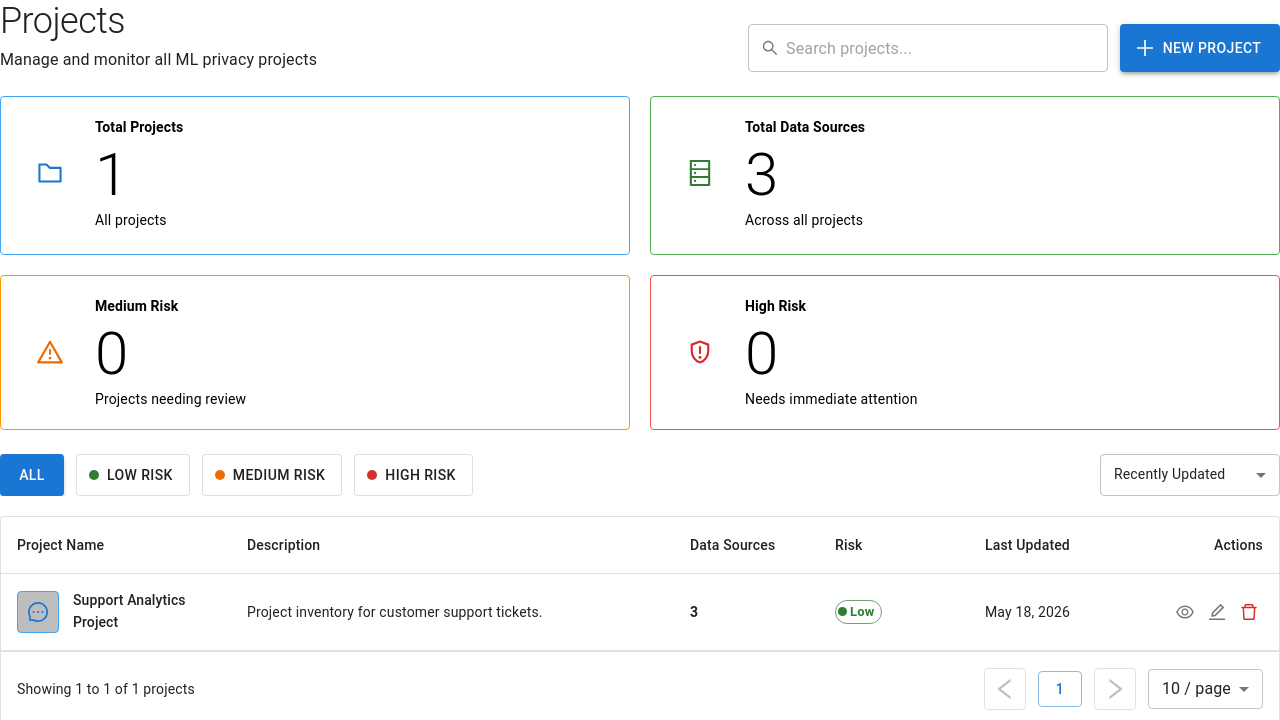
Test: Projects page › updates a project and writes the updated list back to cache
The width and height of the screenshot is (1280, 720).
Expected: the heading "Support Analytics Project" is shown, [73,592,186,630]
Click the button named "Edit Support Analytics Project": (1217,612) [1203,598,1231,626]
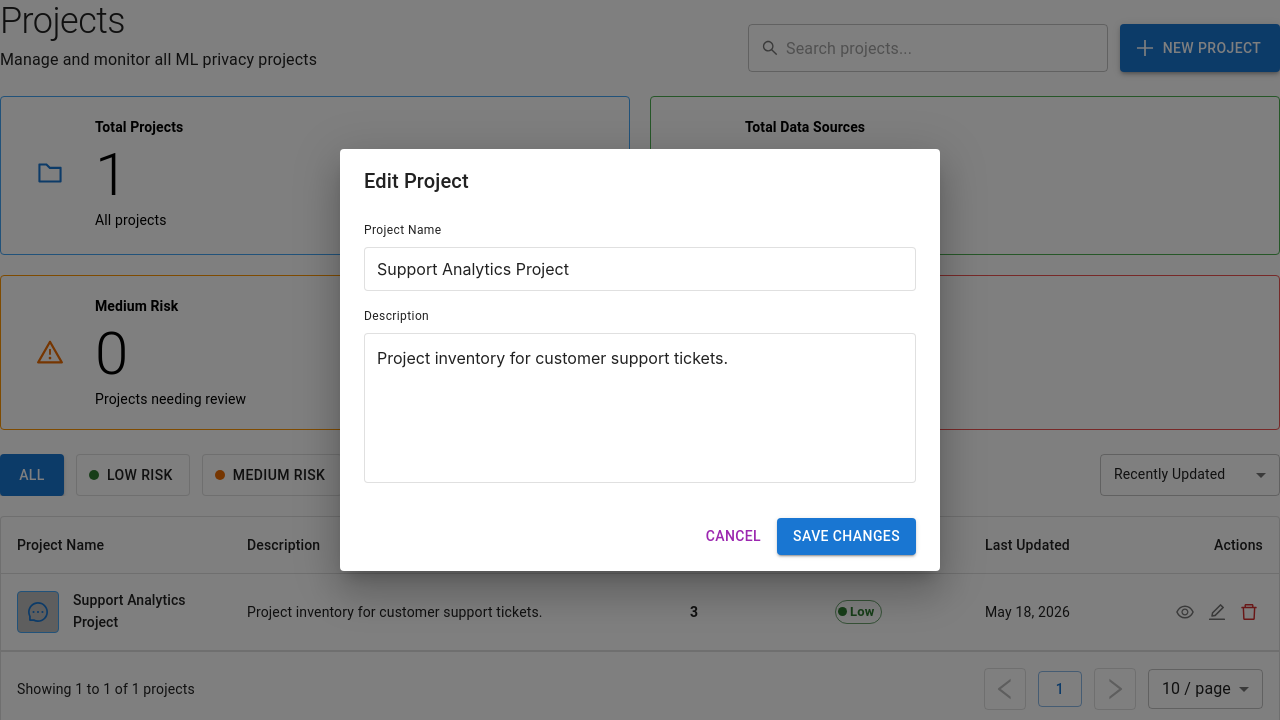
Replace the text in the field showing "Support Analytics Project" with "Updated ML Project": (640,269) [364,247,916,291]
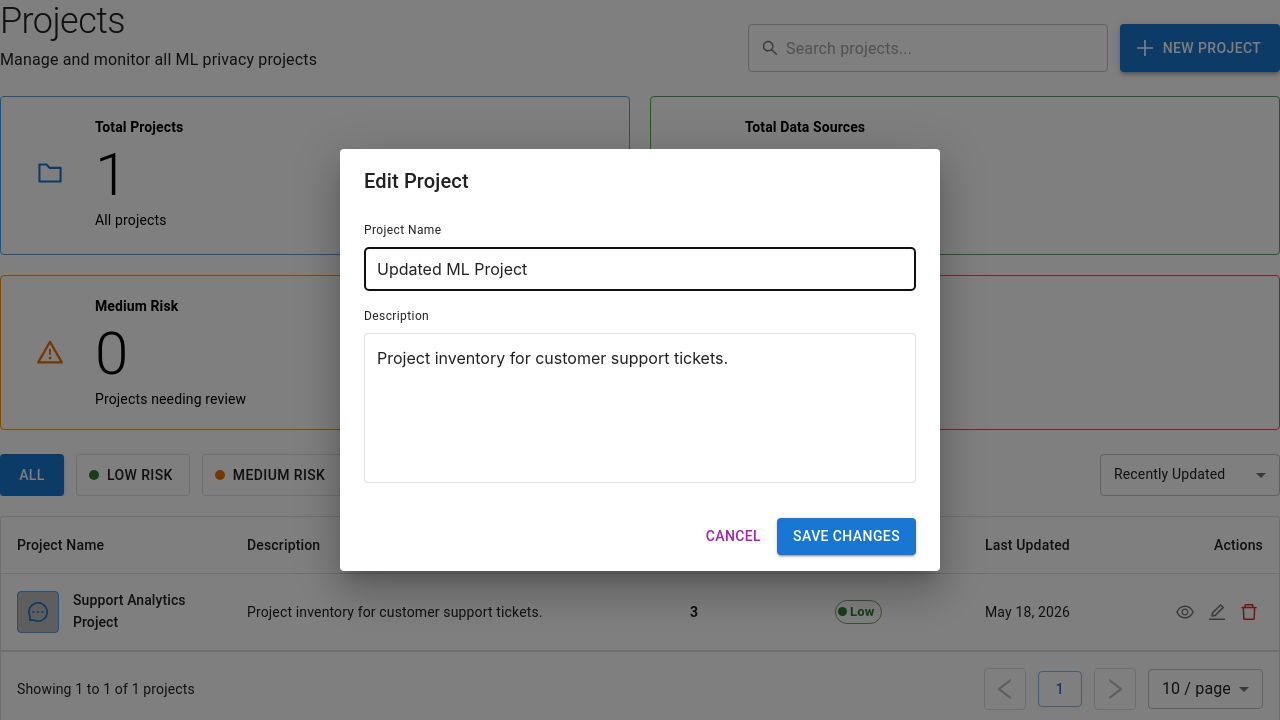
Replace the text in the text box showing "Project inventory for customer support tickets." with "Updated description": (640,408) [364,333,916,483]
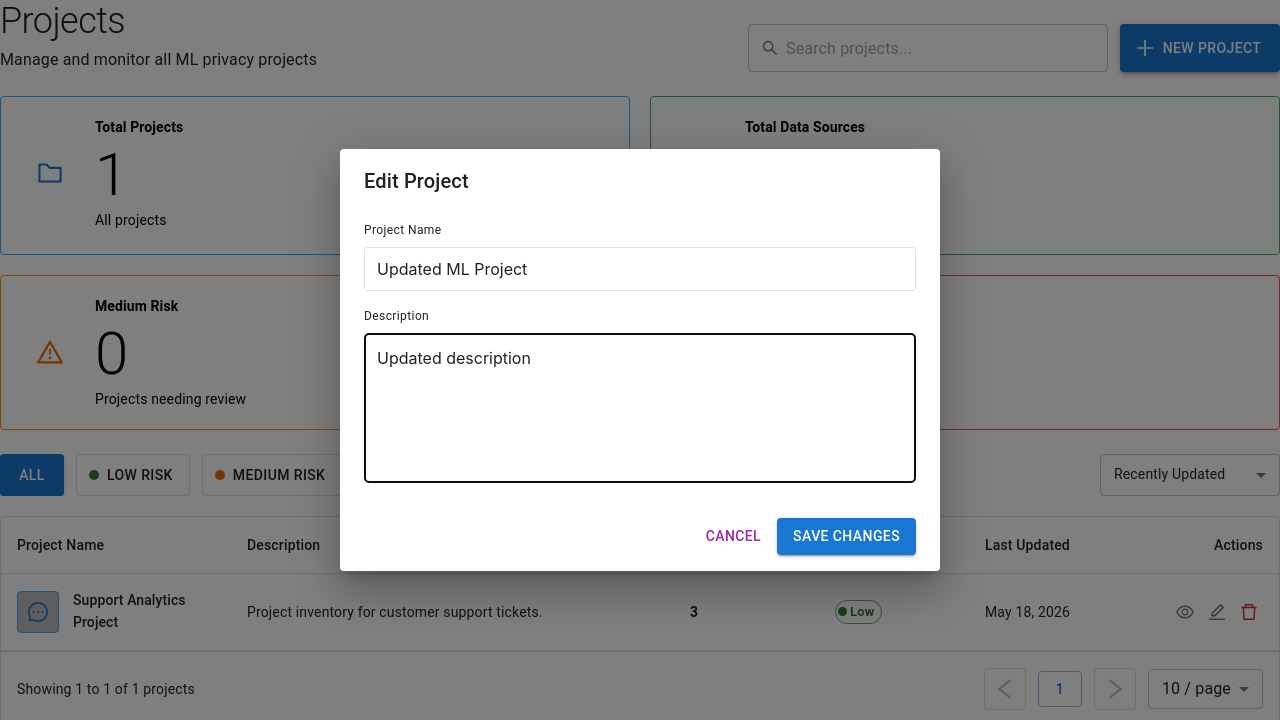
Click the button "Save Changes": (847,537) [777,518,916,555]
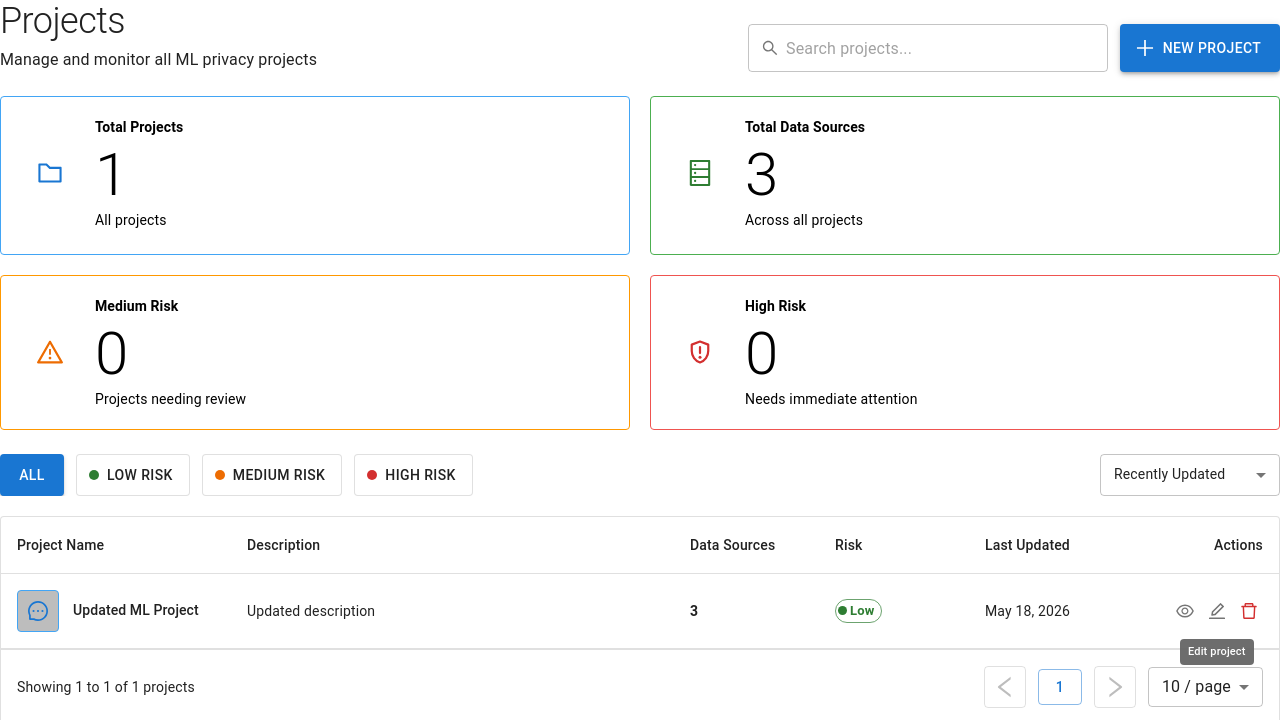
Result: the heading "Updated ML Project" is shown at [73,600,199,622]
